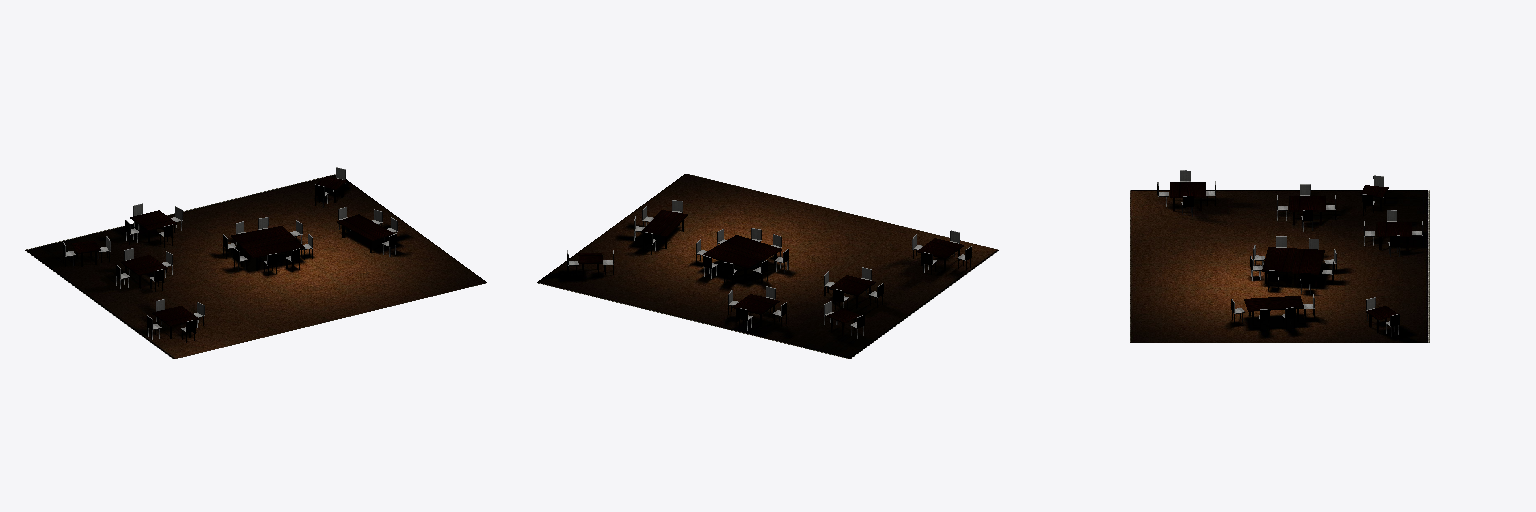
The picture shows the model from 3 angles: view 1: azimuth 30°, elevation 25°; view 2: azimuth 150°, elevation 25°; view 3: azimuth 270°, elevation 25°; orthographic projection.
Bounding box in the file's own units: 11.69 × 0.7549 × 9.65.
1 materials, 1 textured.